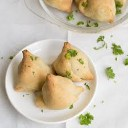samosa: (54, 41, 94, 81), (16, 49, 53, 91), (43, 73, 80, 112)
